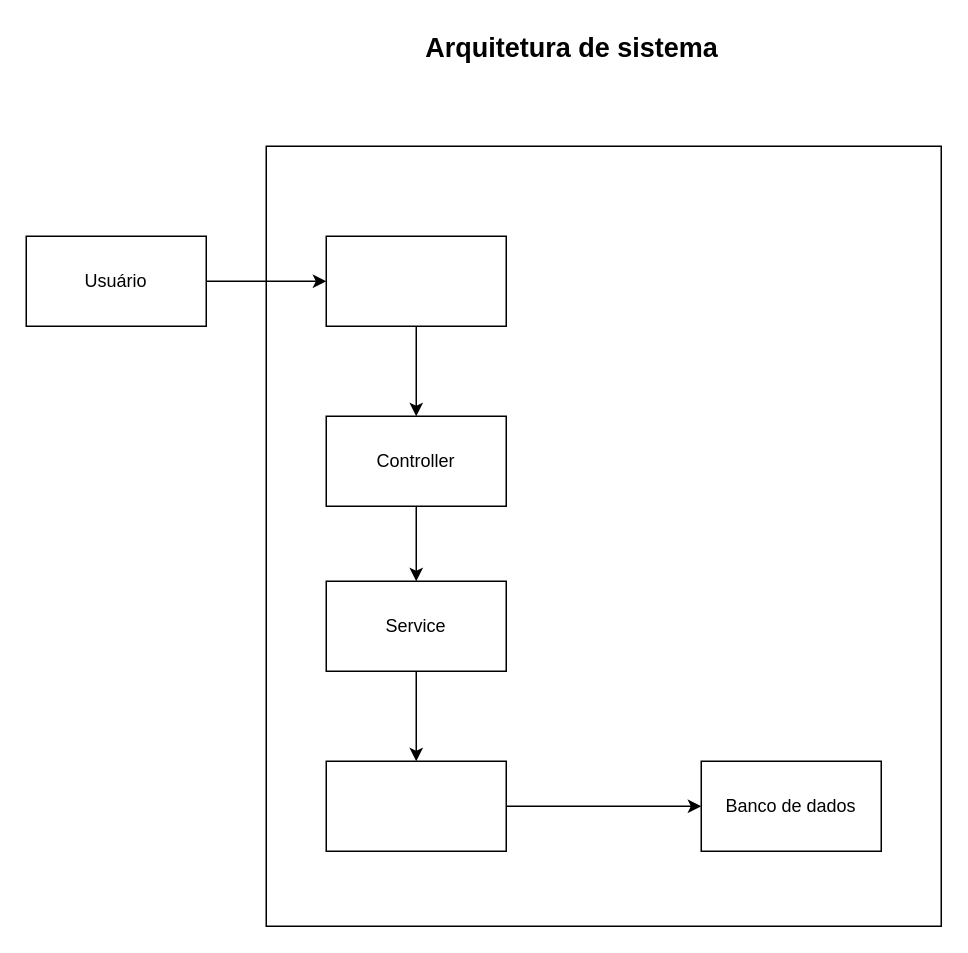
Some shapes in this 968 by 953 pixel diagram are drawn without their labels. Each missing label, with the box of its shape:
API: (325, 235, 506, 326)
Repository: (325, 760, 506, 851)
